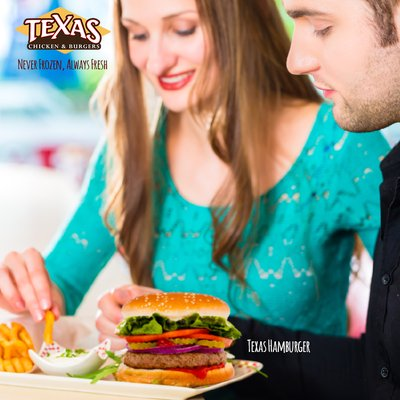soup: (112, 290, 241, 387)
